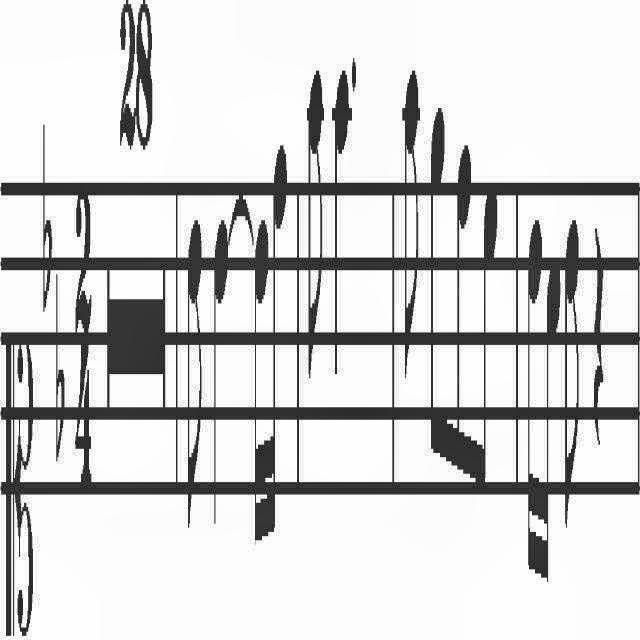Bemol: (36, 109, 54, 311), (52, 236, 66, 479)
Eighth-note: (428, 68, 448, 504), (401, 42, 424, 398), (479, 144, 501, 516), (452, 122, 472, 518), (183, 176, 204, 544), (562, 205, 582, 548), (306, 59, 326, 388)
Quarter-note: (330, 36, 350, 394), (213, 172, 230, 552)
Quarter-rest: (590, 196, 608, 484)
Sixteenth-note: (522, 201, 542, 595), (269, 127, 287, 538), (543, 243, 561, 612), (254, 195, 270, 573)
